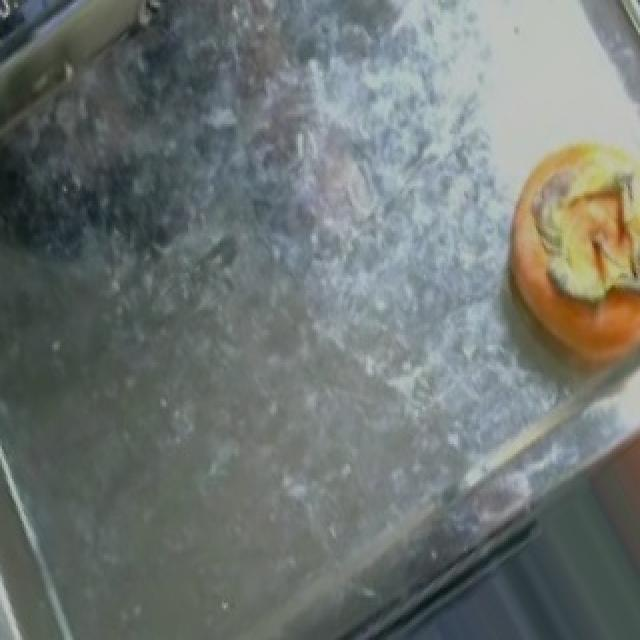Fruit: (490, 116, 640, 328), (576, 384, 640, 608)
